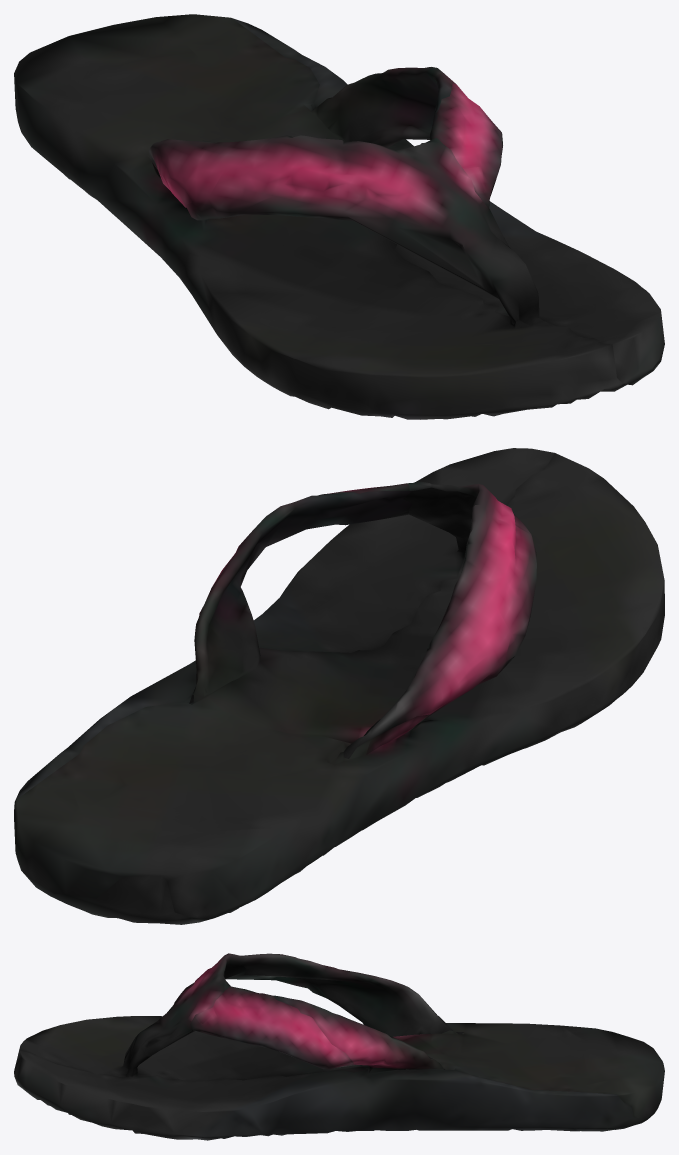
Rendered from REEF_BRAIDED_CUSHION-medium.glb.
The picture shows the model from 3 angles, top to bottom: view 1: azimuth 30°, elevation 25°; view 2: azimuth 150°, elevation 25°; view 3: azimuth 270°, elevation 25°; orthographic projection. The views are drawn at different scales.
Visible parts, largest first — view 1: REEF_BRAIDED_CUSHION; view 2: REEF_BRAIDED_CUSHION; view 3: REEF_BRAIDED_CUSHION.
Part boxes in pixels (x1,y1,x2,y2): REEF_BRAIDED_CUSHION: [14, 14, 664, 419]; REEF_BRAIDED_CUSHION: [14, 448, 664, 924]; REEF_BRAIDED_CUSHION: [14, 953, 664, 1140].
Bounding box in the file's own units: 0.0942 × 0.0565 × 0.2517.
1 material, 1 textured.
